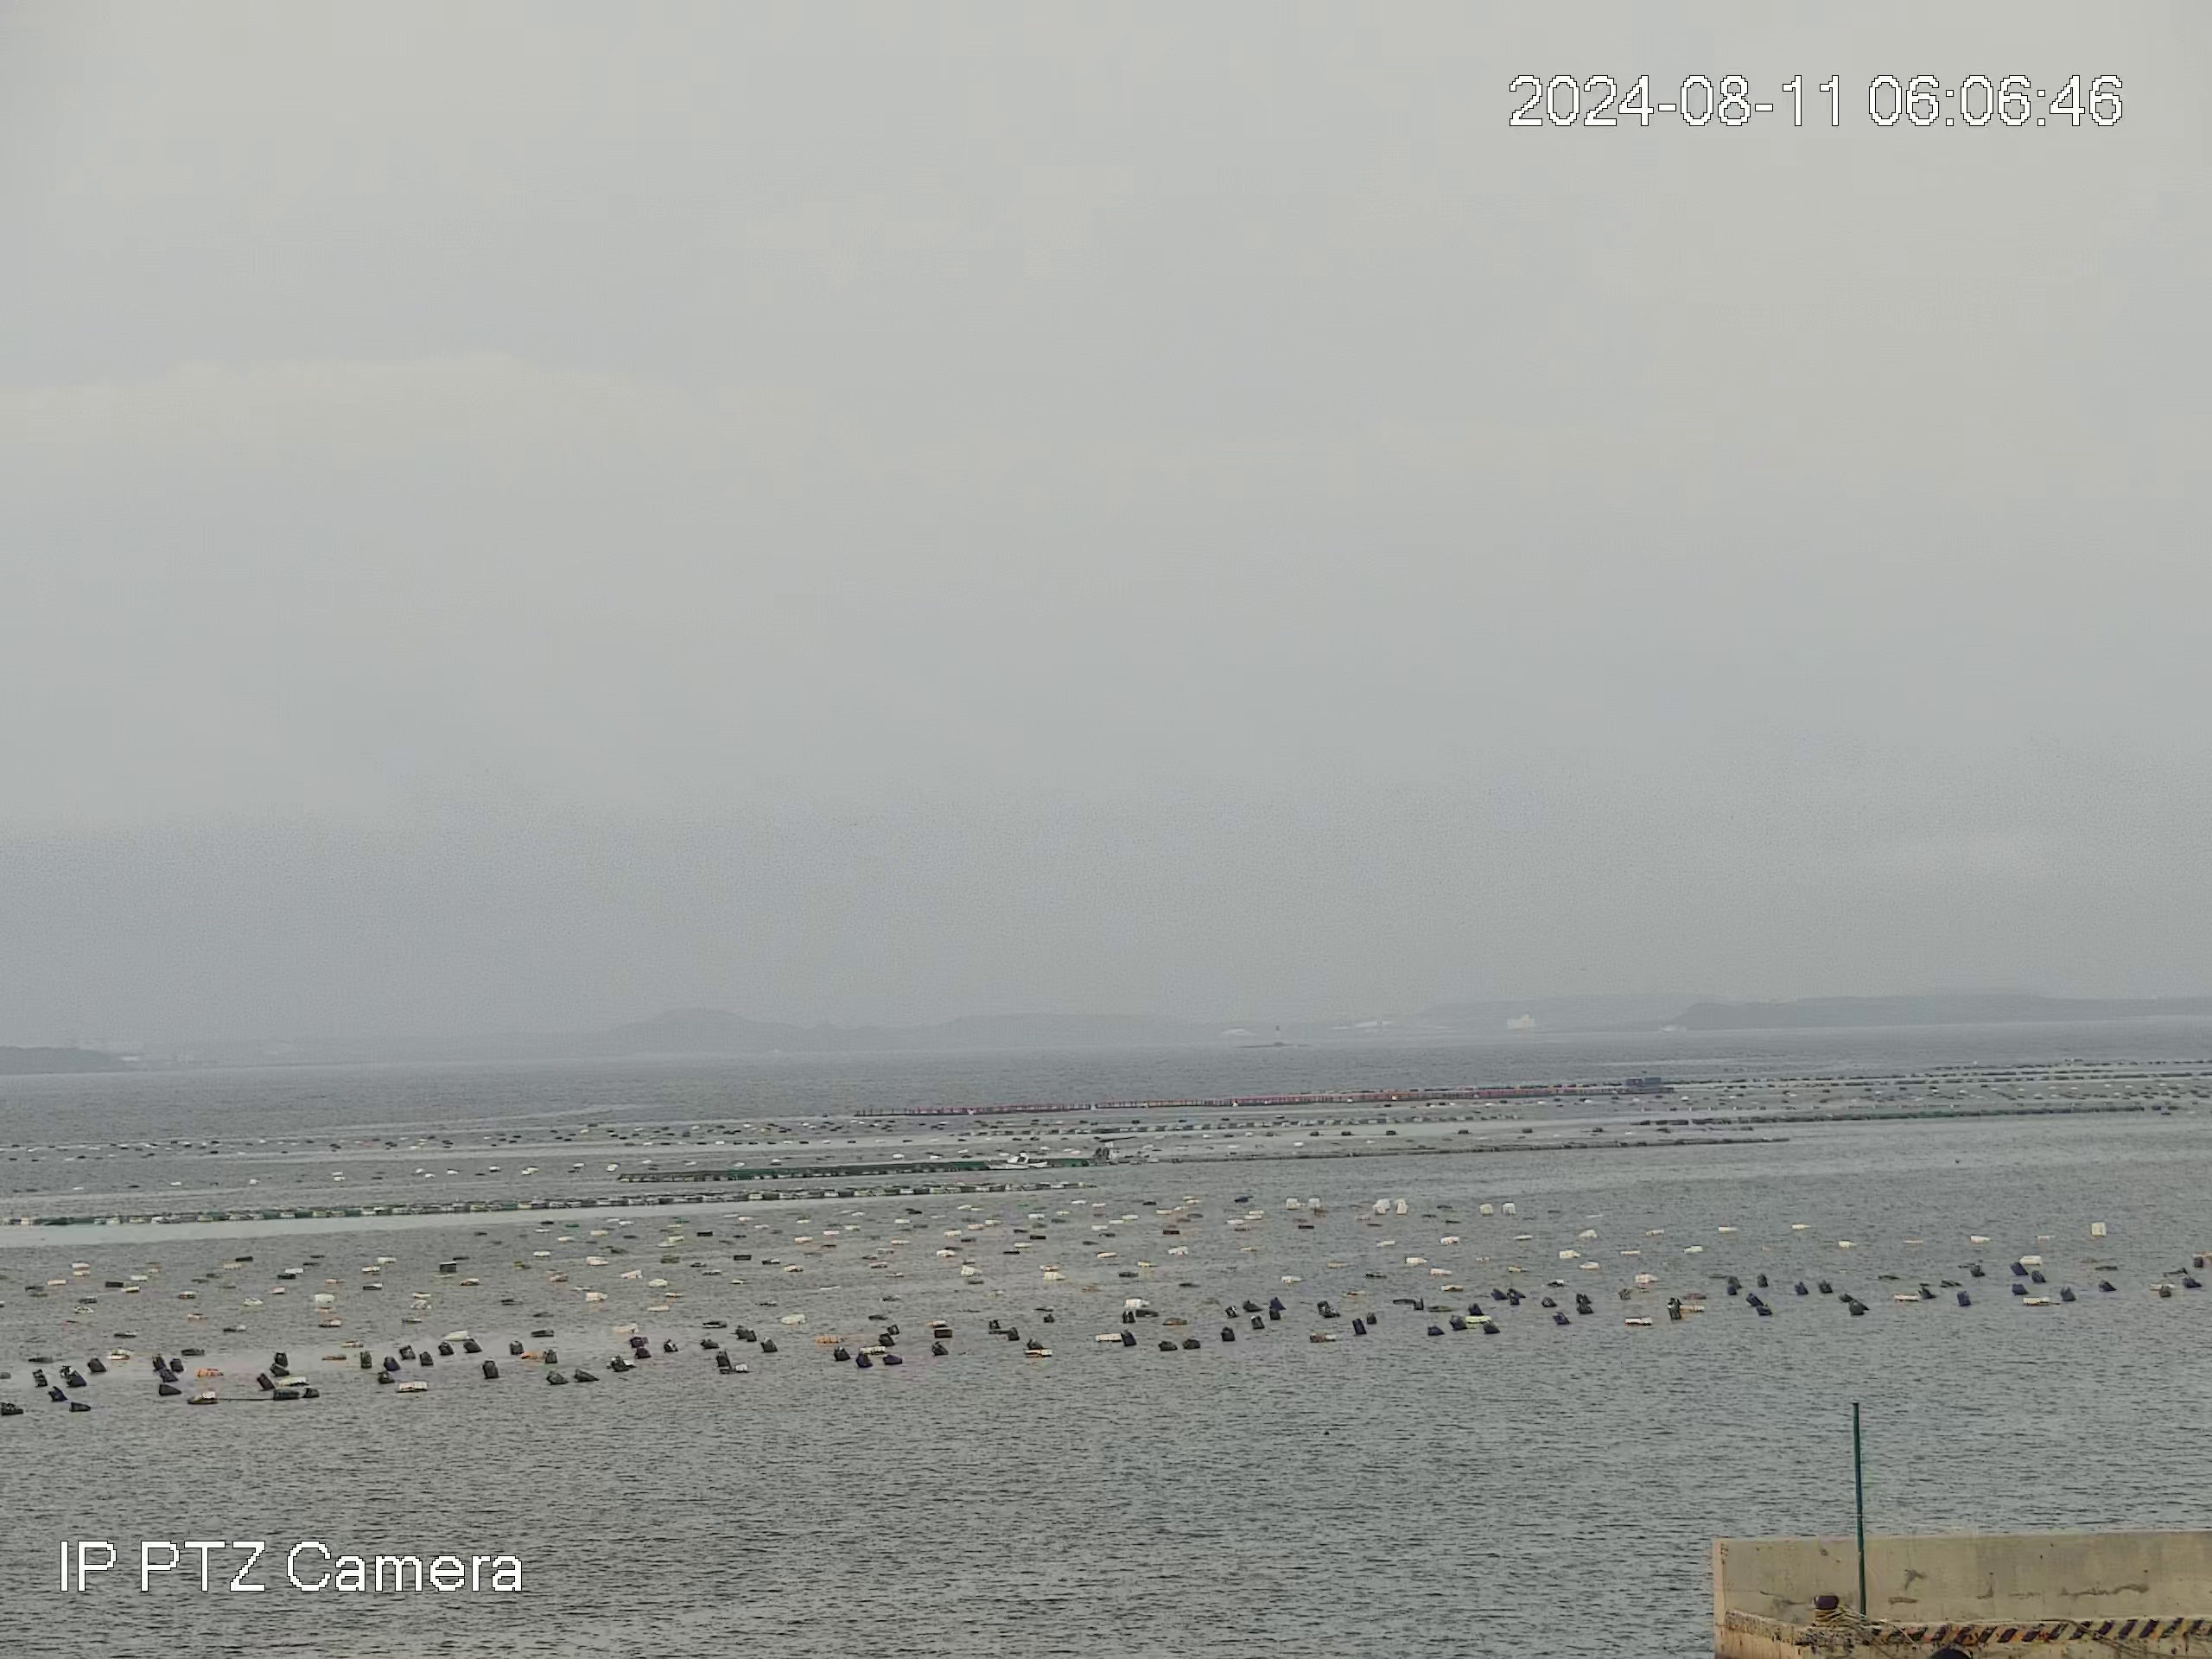boat: (981, 1148, 1050, 1171)
